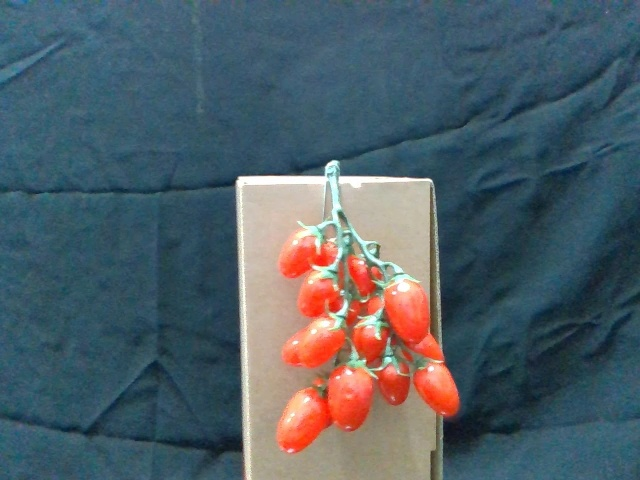tomato: (274, 383, 329, 452), (385, 272, 435, 340), (330, 365, 372, 434), (280, 225, 328, 279), (415, 360, 460, 414), (301, 312, 346, 365), (376, 354, 414, 407), (301, 266, 339, 316), (355, 316, 390, 362)
